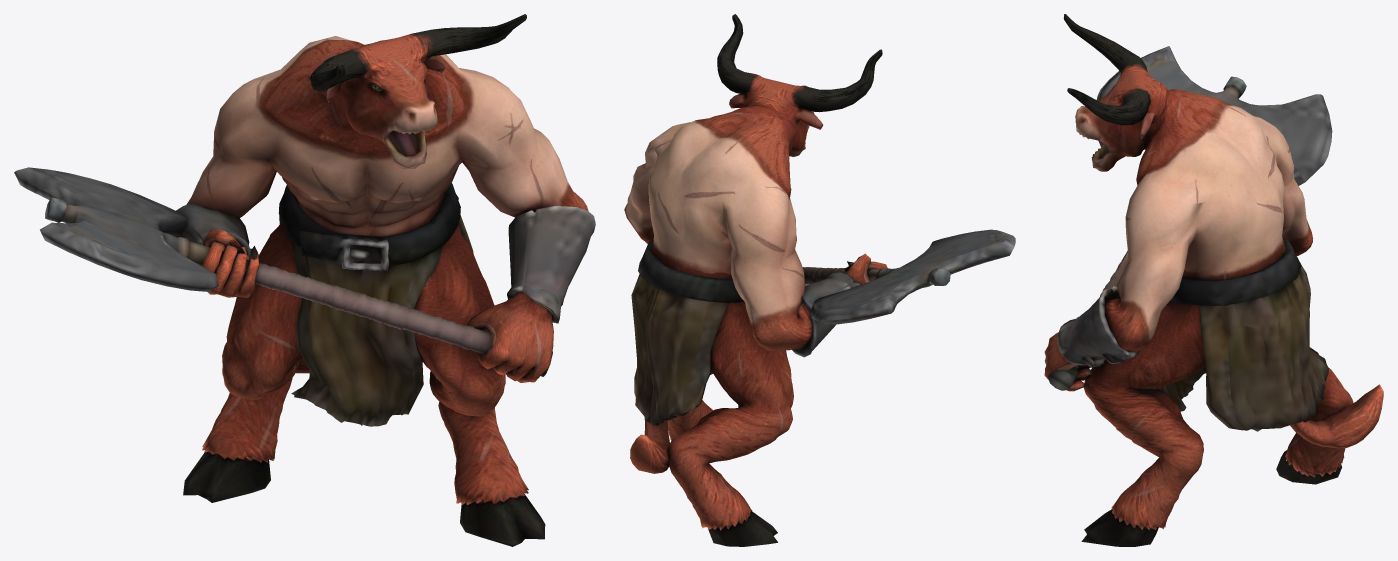
Rendered from MZ4250 - Minotaur Barbarian 6_2.glb.
3 views of the same model, side by side, from view 1: azimuth 30°, elevation 25°; view 2: azimuth 150°, elevation 25°; view 3: azimuth 270°, elevation 25° (orthographic). The views are drawn at different scales.
Parts seen in each view (by area): view 1: Body.002; view 2: Body.002; view 3: Body.002.
Part boxes in pixels (x1,y1,x2,y2): Body.002: (14, 14, 595, 546); Body.002: (624, 14, 1015, 546); Body.002: (1044, 14, 1383, 546).
Size of the model in its own units: 92.47 by 90.46 by 62.53.
2 materials, 2 textured.
